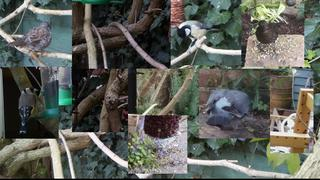blackbird: (255, 20, 284, 57)
dunnock: (5, 20, 52, 57)
goldfinch: (18, 87, 39, 134)
great tit: (177, 20, 221, 54)
wood pigeon: (205, 89, 250, 132)
